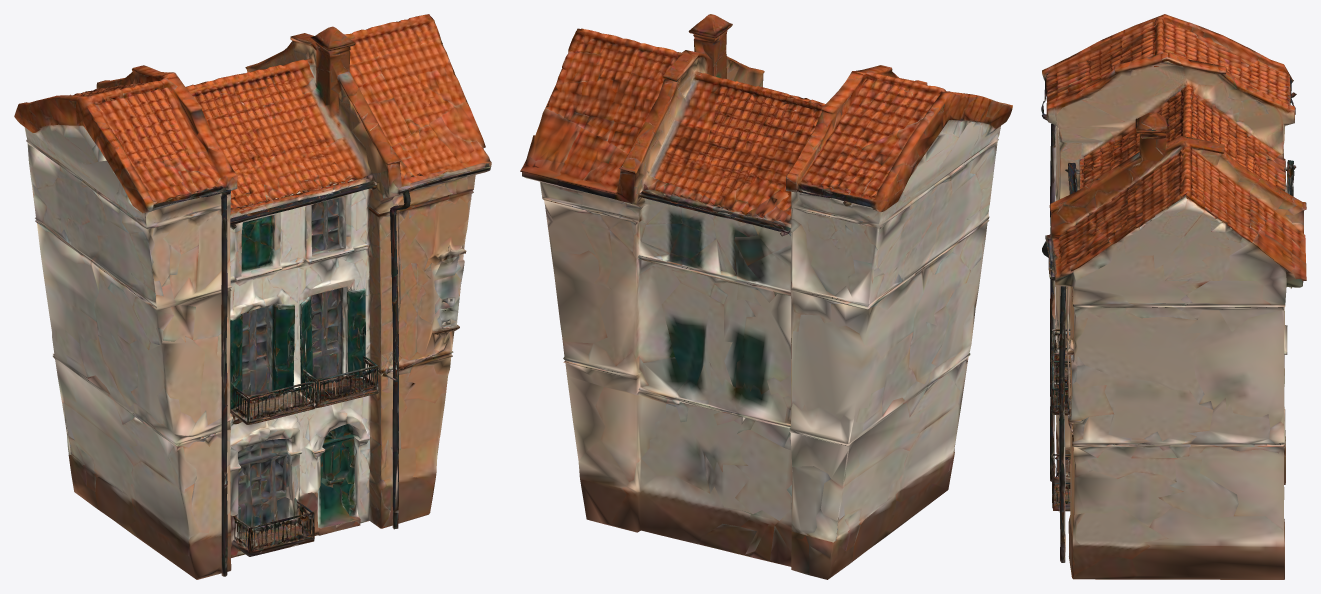
The model's file is house-cream.glb.
The picture shows the model from 3 angles, left to right: view 1: azimuth 30°, elevation 25°; view 2: azimuth 150°, elevation 25°; view 3: azimuth 270°, elevation 25°; orthographic projection. The views are drawn at different scales.
Size of the model in its own units: 1.54 by 1.9 by 1.03.
Materials: 1 (1 with a texture image).
